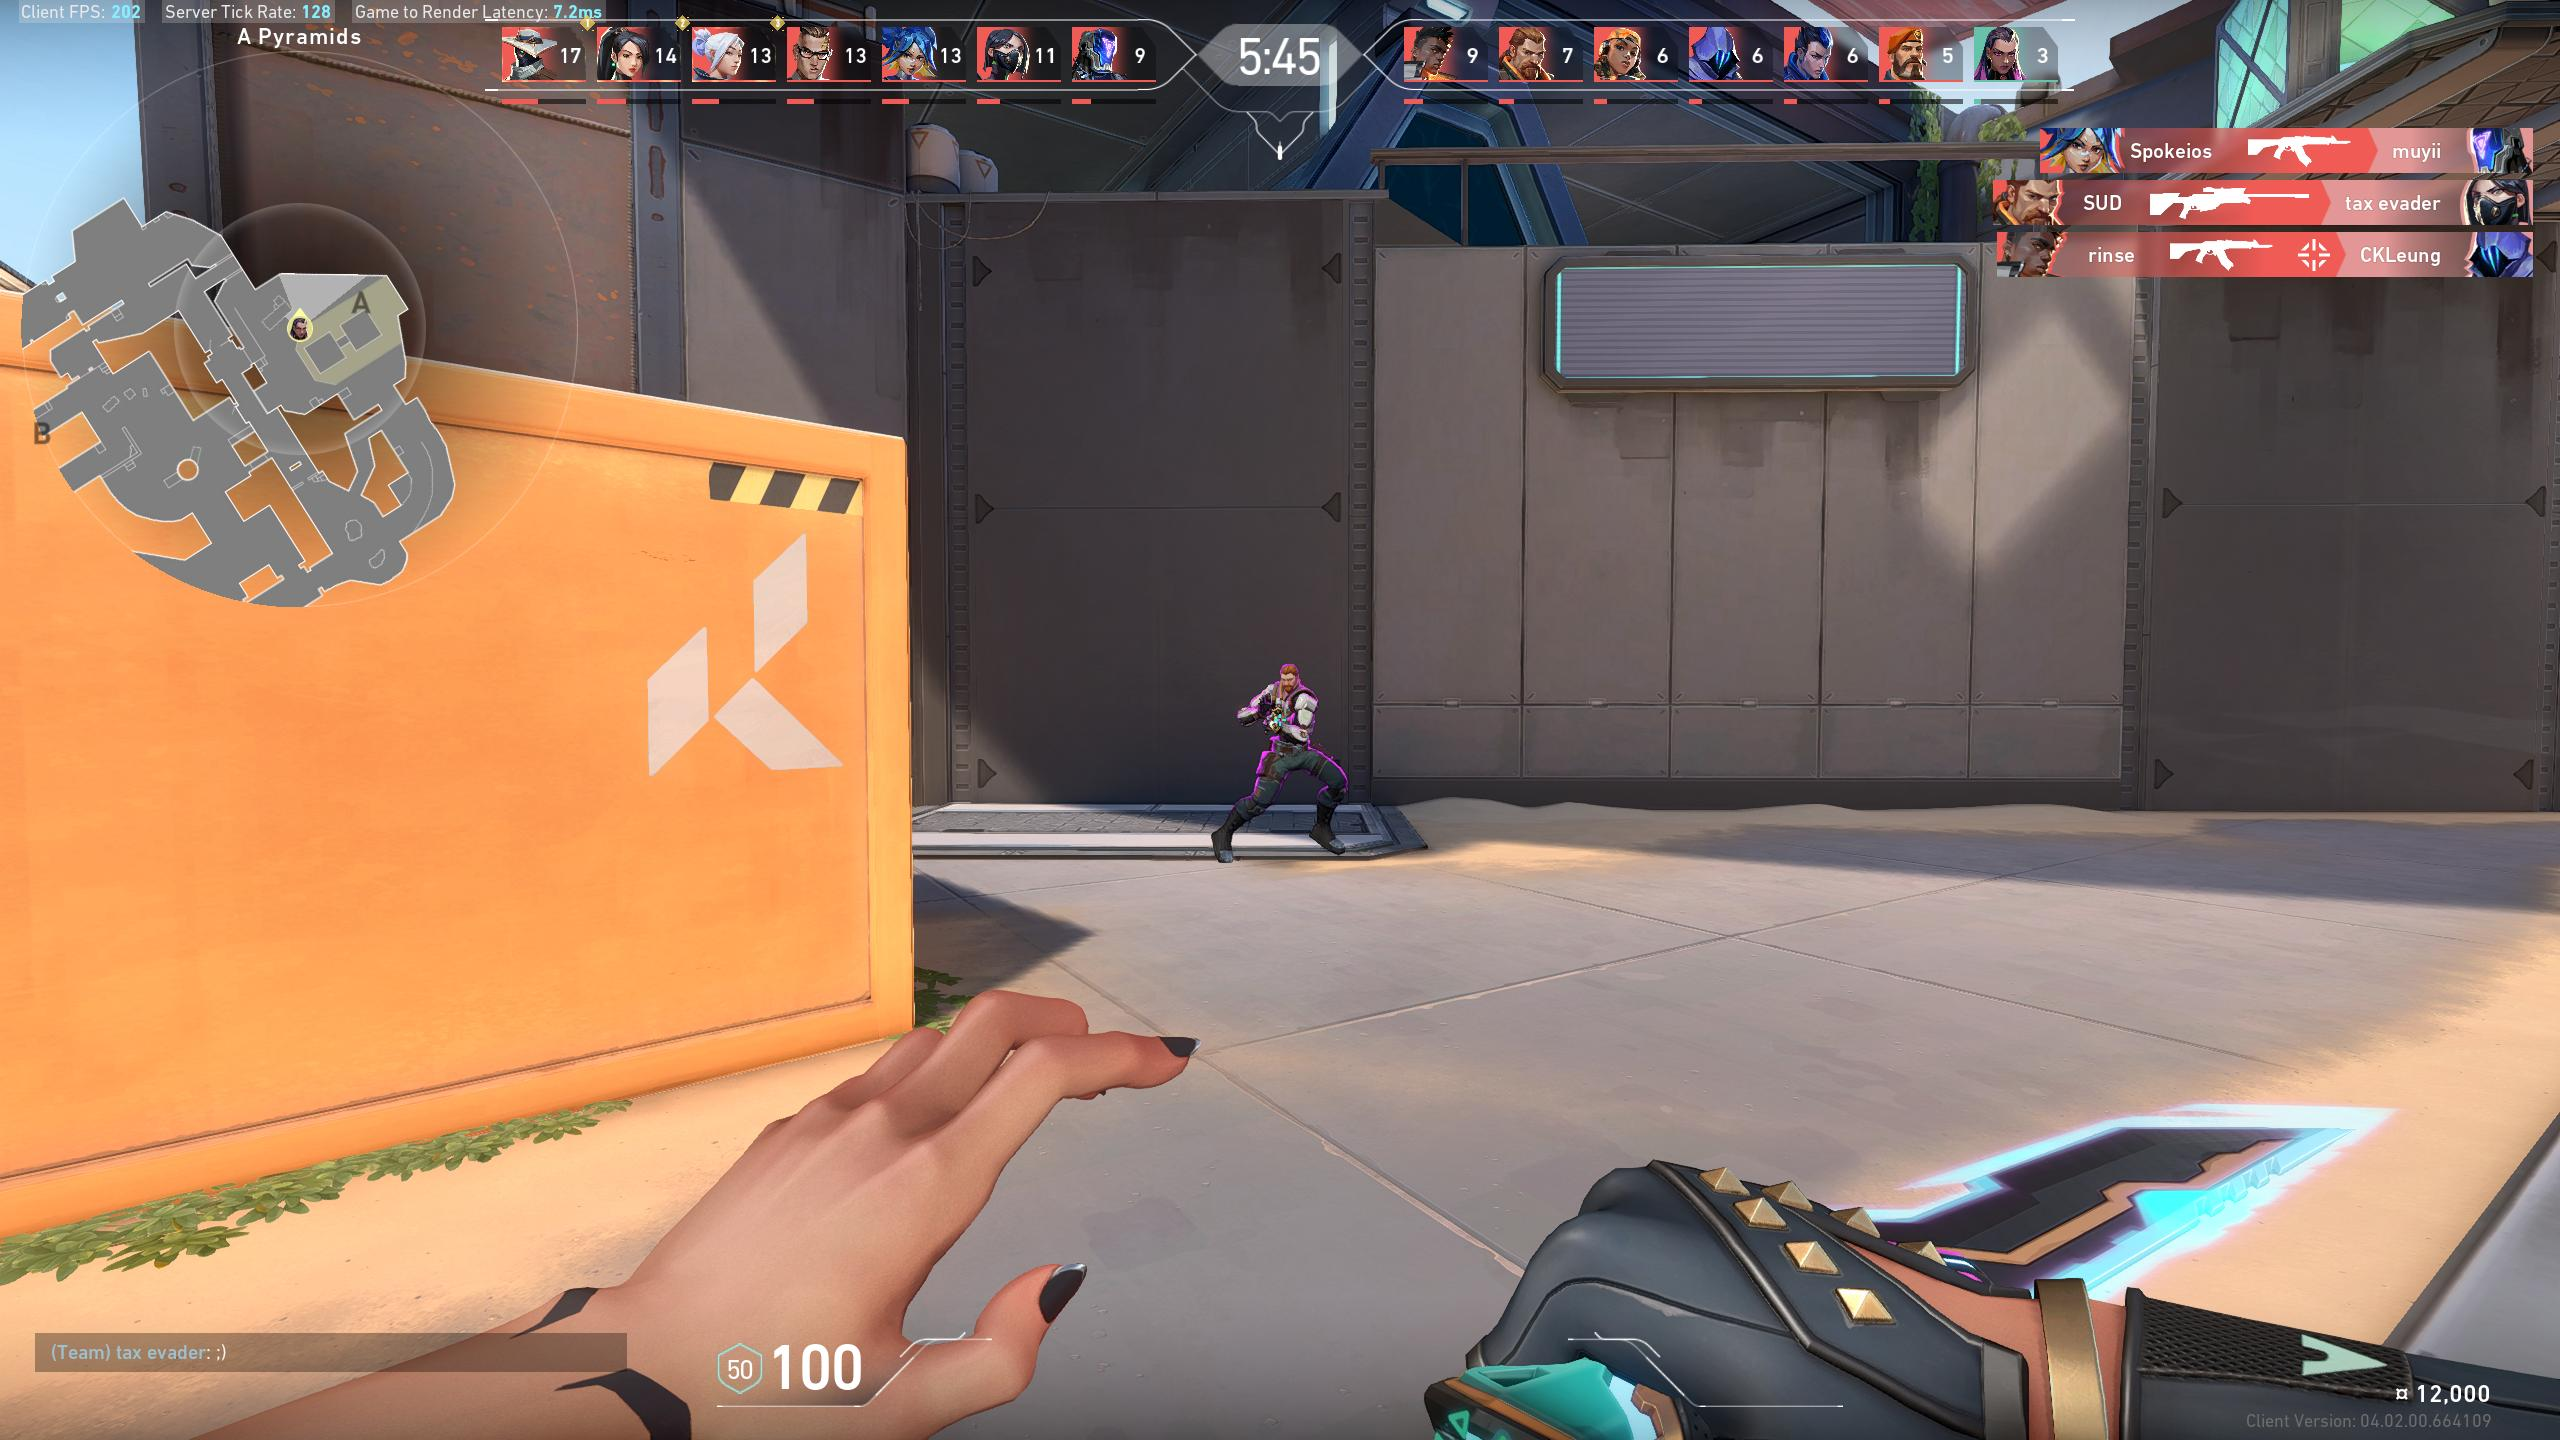enemyBody: (1271, 696, 1305, 740)
enemyHead: (1282, 672, 1296, 689)
